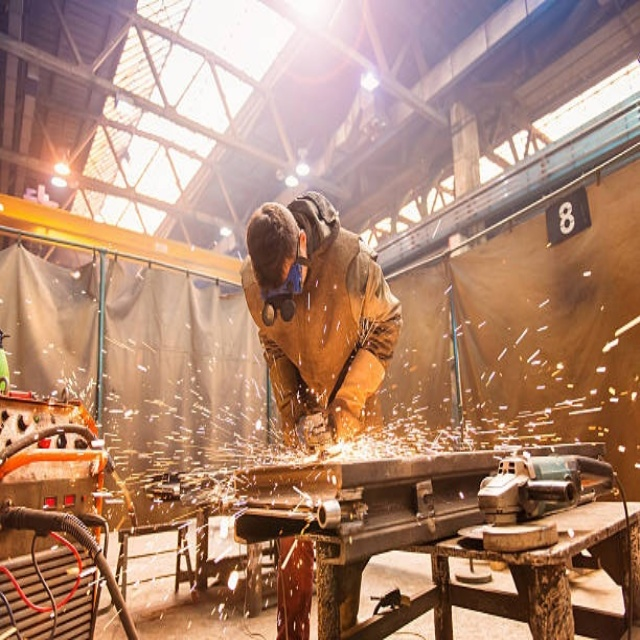Gafas: (261, 230, 305, 325)
Guantes: (326, 340, 389, 442)
